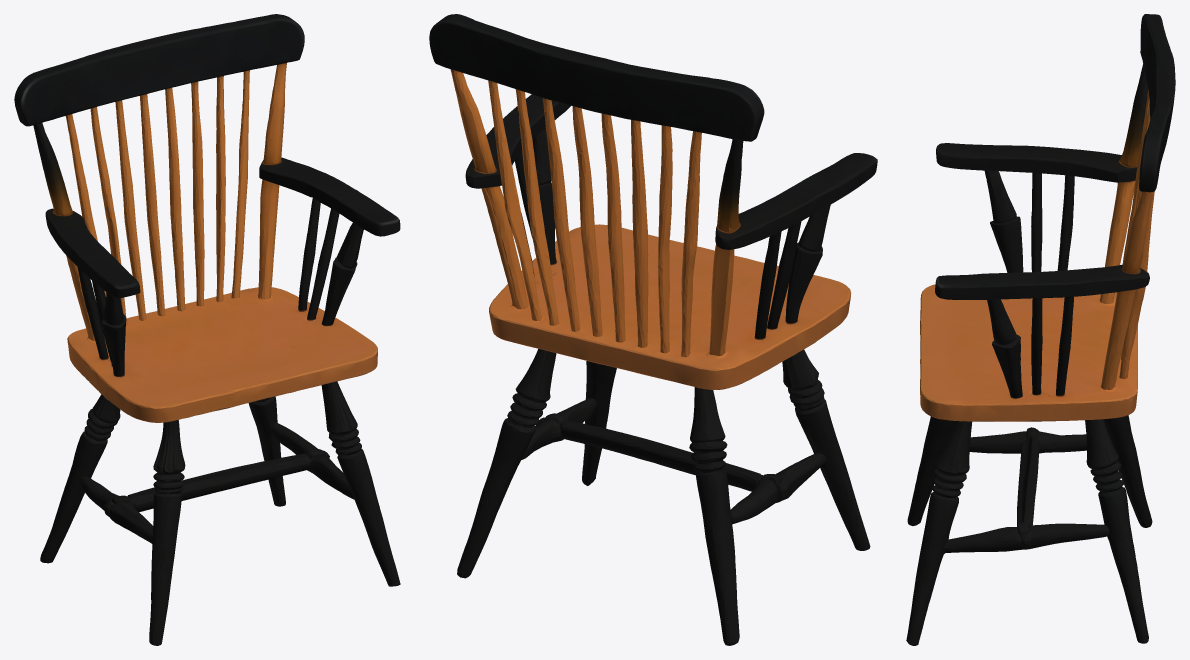
The model's file is chair.glb.
The picture shows the model from 3 angles, left to right: view 1: azimuth 30°, elevation 25°; view 2: azimuth 150°, elevation 25°; view 3: azimuth 270°, elevation 25°; orthographic projection. The views are drawn at different scales.
Parts seen in each view (by area): view 1: model; view 2: model; view 3: model.
Boxes of the visible parts, box(x1,y1,x2,y2) form: model: box(14, 14, 400, 645); model: box(429, 14, 877, 645); model: box(906, 14, 1175, 645).
Size of the model in its own units: 1.16 by 1.9 by 0.9108.
1 material, 1 textured.
